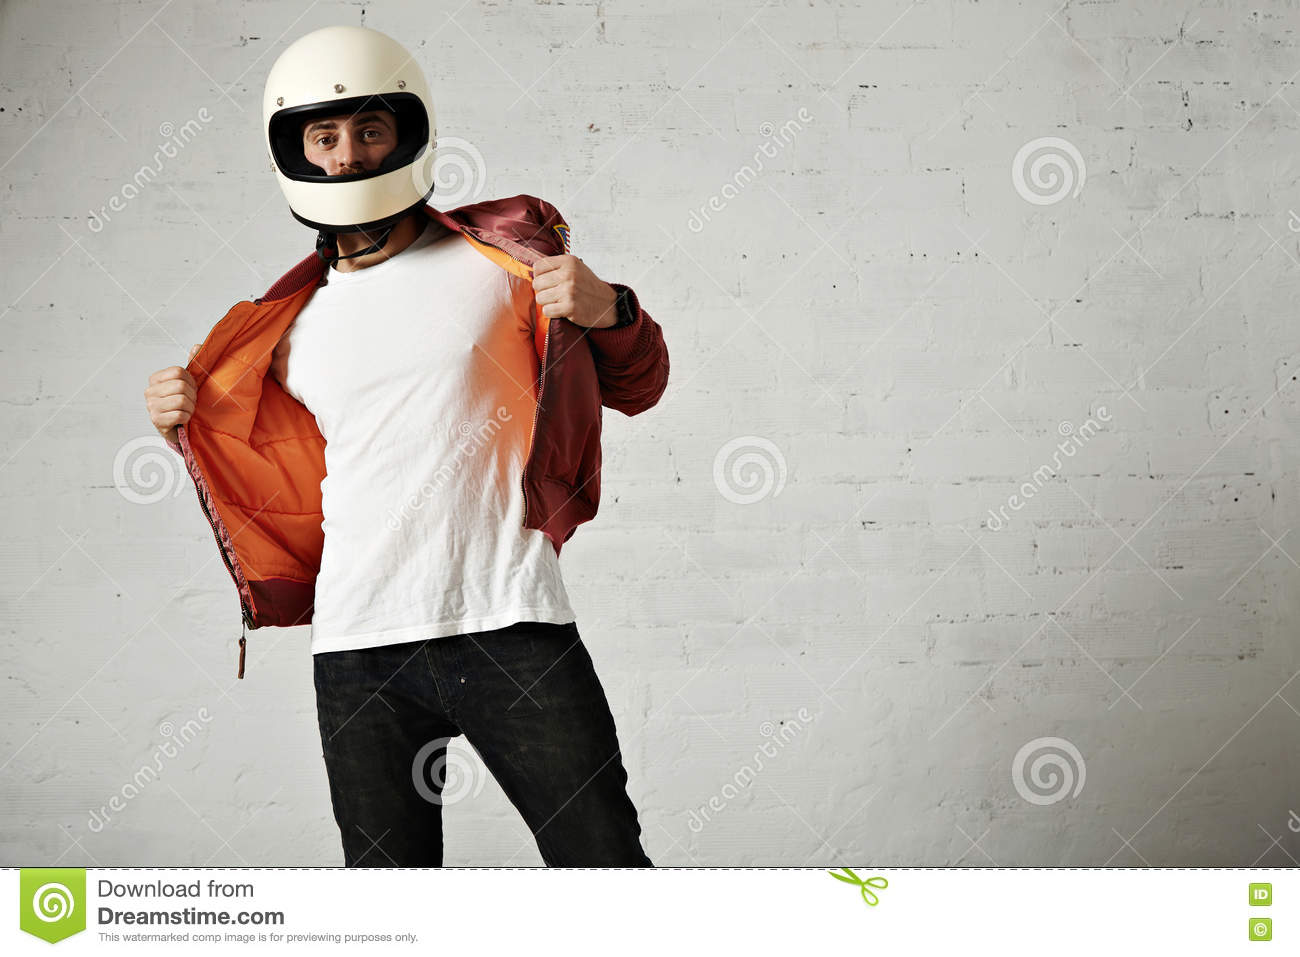helmet: (251, 33, 460, 224)
